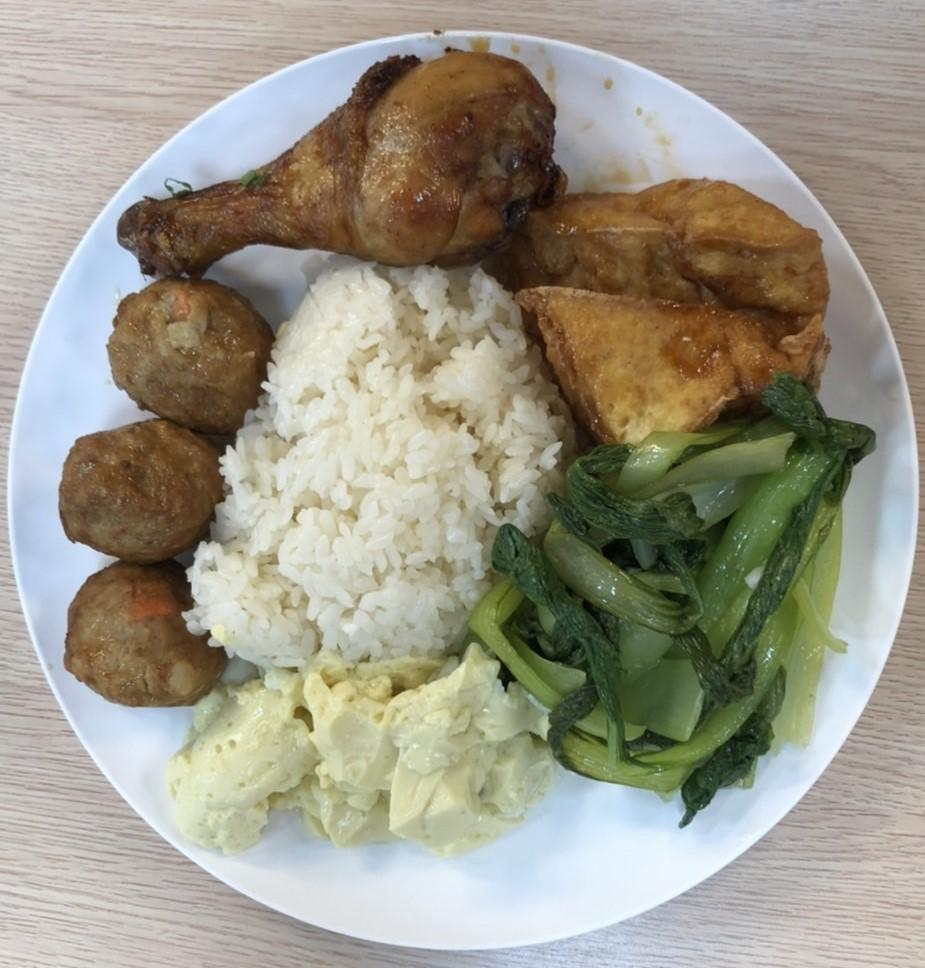big fried chicken leg: (0, 8, 925, 959)
big herbal chicken leg: (177, 256, 570, 670)
braised fish fillet: (486, 388, 876, 811), (499, 166, 836, 456), (159, 648, 540, 865)
braised pork: (113, 30, 559, 286), (38, 270, 277, 711)
